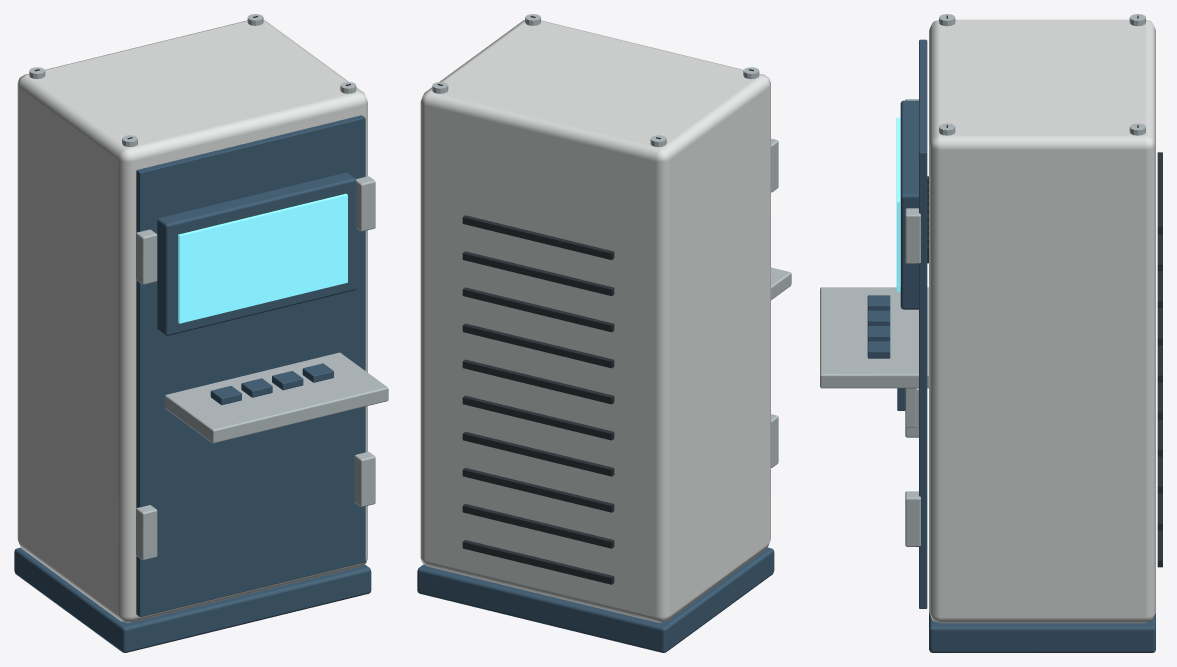
The model's file is container-inspection-and-customs-yard-container-inspec-43f86466__29279.glb.
The picture shows the model from 3 angles, left to right: view 1: azimuth 30°, elevation 25°; view 2: azimuth 150°, elevation 25°; view 3: azimuth 270°, elevation 25°; orthographic projection. The views are drawn at different scales.
Parts seen in each view (by area): view 1: container-inspection-and-customs-yard-weighbridge-kiosk; view 2: container-inspection-and-customs-yard-weighbridge-kiosk; view 3: container-inspection-and-customs-yard-weighbridge-kiosk.
Boxes of the visible parts, x1,y1,x2,y2 form: container-inspection-and-customs-yard-weighbridge-kiosk: (14, 14, 388, 652); container-inspection-and-customs-yard-weighbridge-kiosk: (417, 14, 791, 652); container-inspection-and-customs-yard-weighbridge-kiosk: (820, 14, 1162, 652).
Size of the model in its own units: 0.65 by 1.26 by 0.755.
